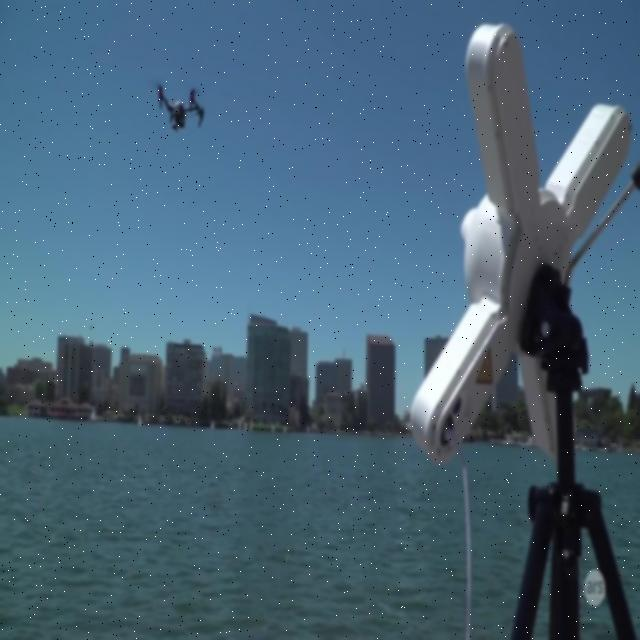UAV: (157, 80, 205, 134)
